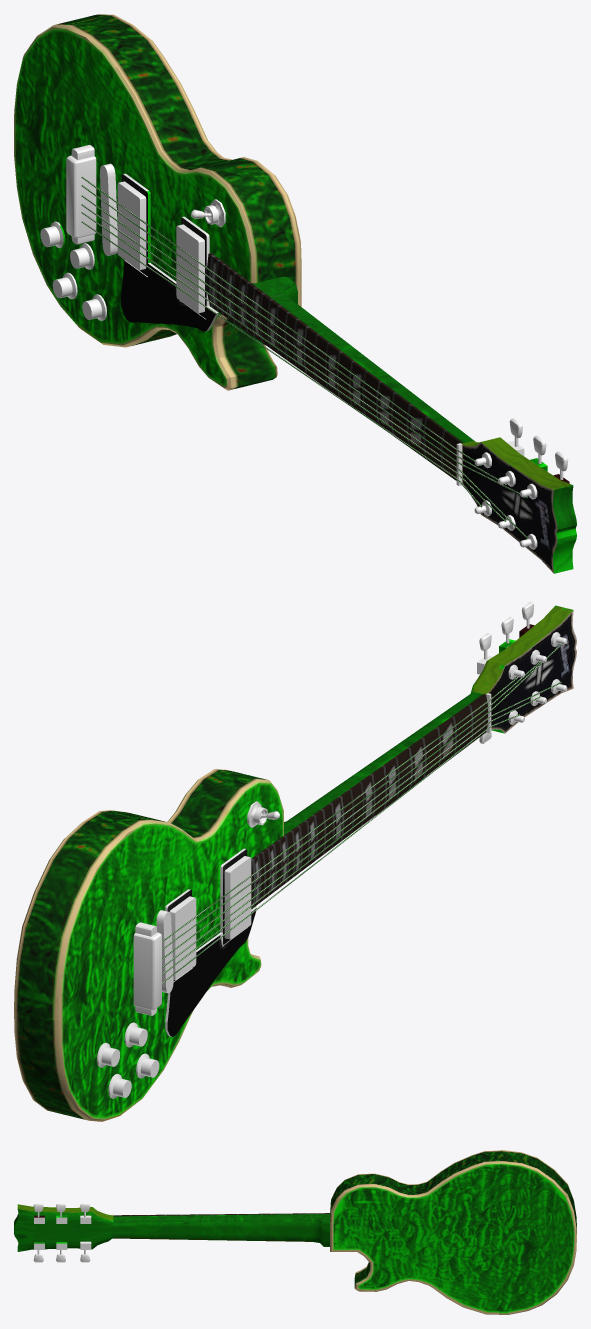
3 views of the same model, one above another, from view 1: azimuth 30°, elevation 25°; view 2: azimuth 150°, elevation 25°; view 3: azimuth 270°, elevation 25° (orthographic). The views are drawn at different scales.
Parts seen in each view (by area): view 1: Line002; view 2: Line002; view 3: Line002.
Boxes of the visible parts, x1,y1,x2,y2 form: Line002: (14,14,576,573); Line002: (14,602,576,1121); Line002: (14,1150,576,1314).
Size of the model in its own units: 30.99 by 113 by 377.
1 material, 1 textured.
